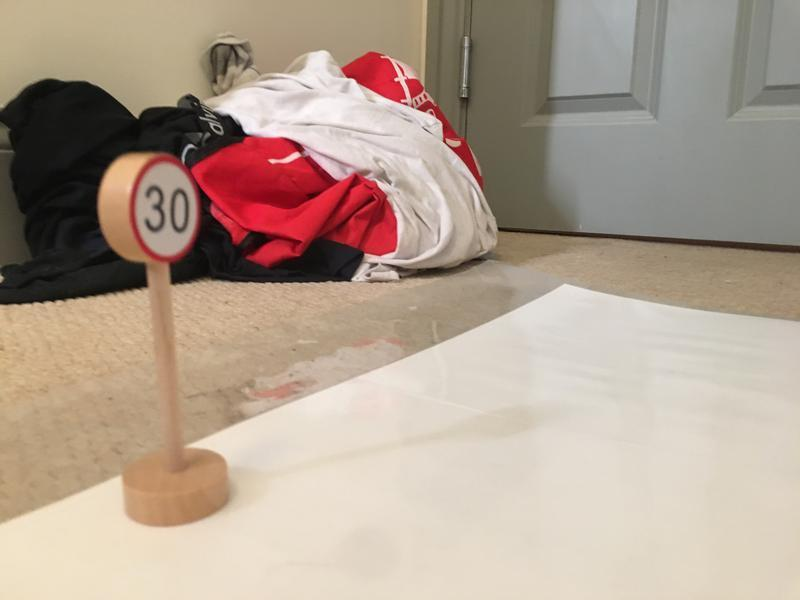Traffic_Sign_30: (130, 156, 199, 263)
